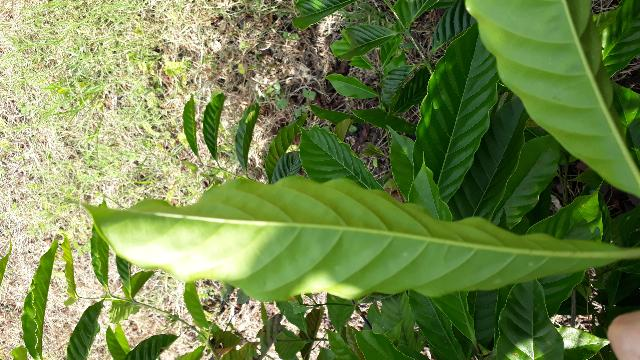healthy: (70, 178, 623, 301)
